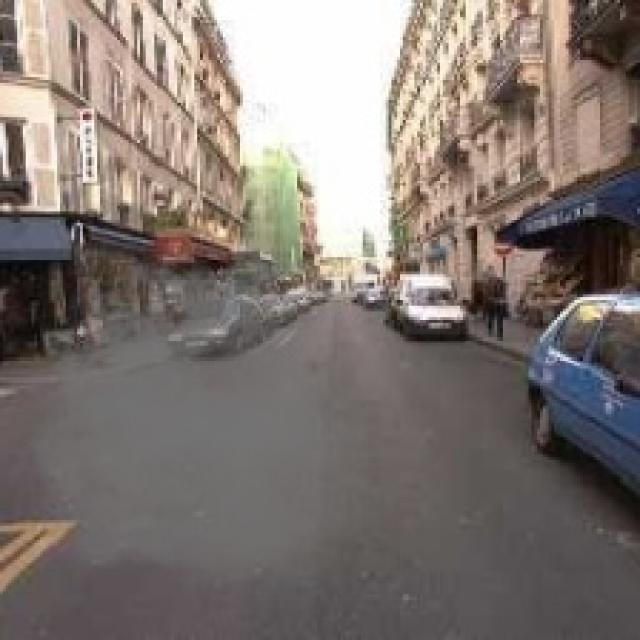smoke: (9, 240, 368, 589)
